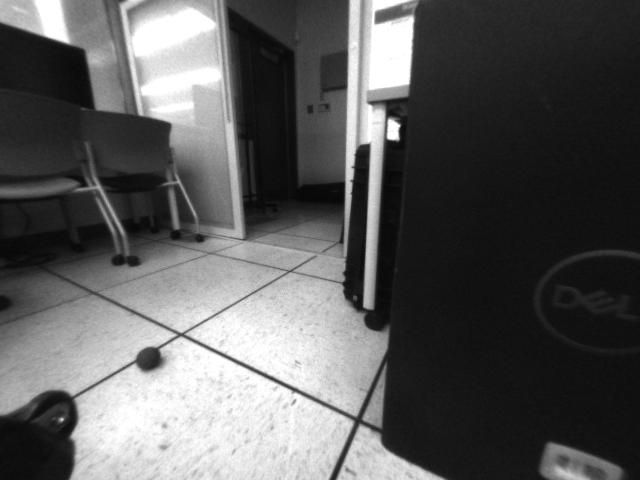dogtoy: (131, 341, 168, 375)
